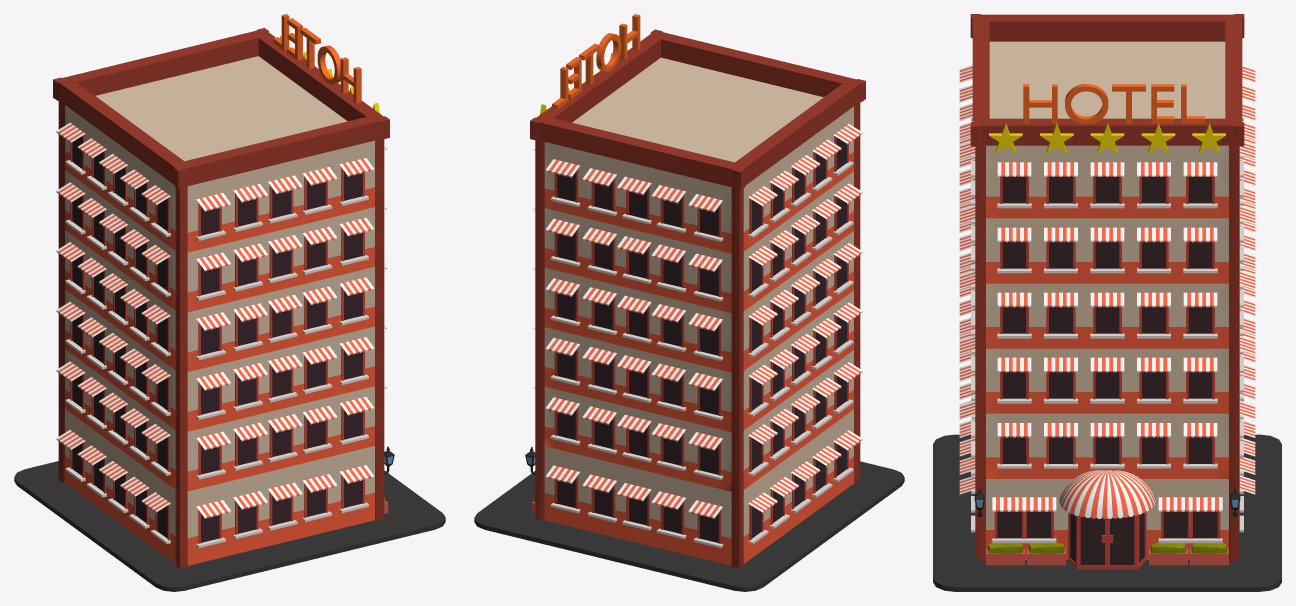
3 views of the same model, side by side, from view 1: azimuth 30°, elevation 25°; view 2: azimuth 150°, elevation 25°; view 3: azimuth 270°, elevation 25° (orthographic). The views are drawn at different scales.
Parts seen in each view (by area): view 1: Hotel1; view 2: Hotel1; view 3: Hotel1.
Boxes of the visible parts, <box> form: Hotel1: <box>14,14,445,591</box>; Hotel1: <box>474,14,904,591</box>; Hotel1: <box>933,14,1281,591</box>.
Size of what is drawn, in the model's own units: 6.9 by 10.09 by 6.67.
Materials: 1 (1 with a texture image).
